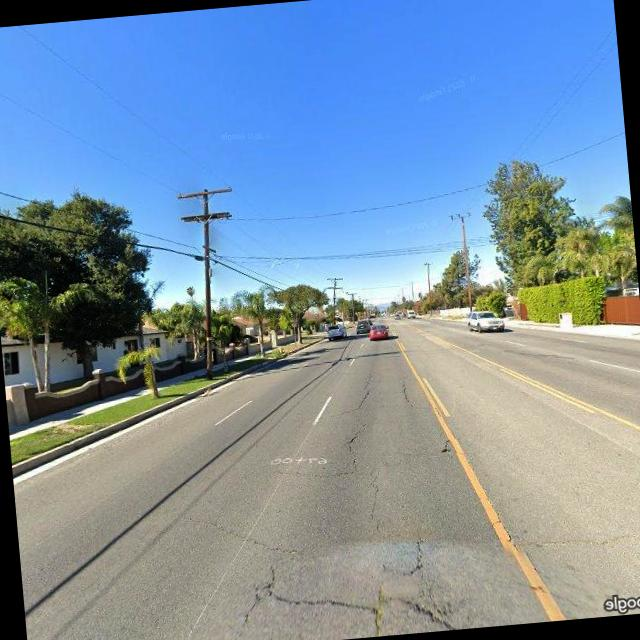crack: (179, 493, 466, 640), (497, 507, 640, 571), (323, 362, 382, 476), (393, 368, 422, 424)
